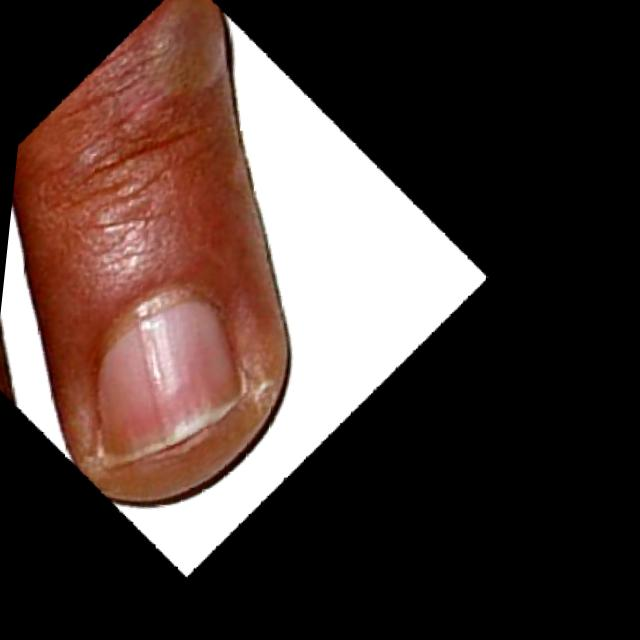Nail: (99, 297, 237, 469)
